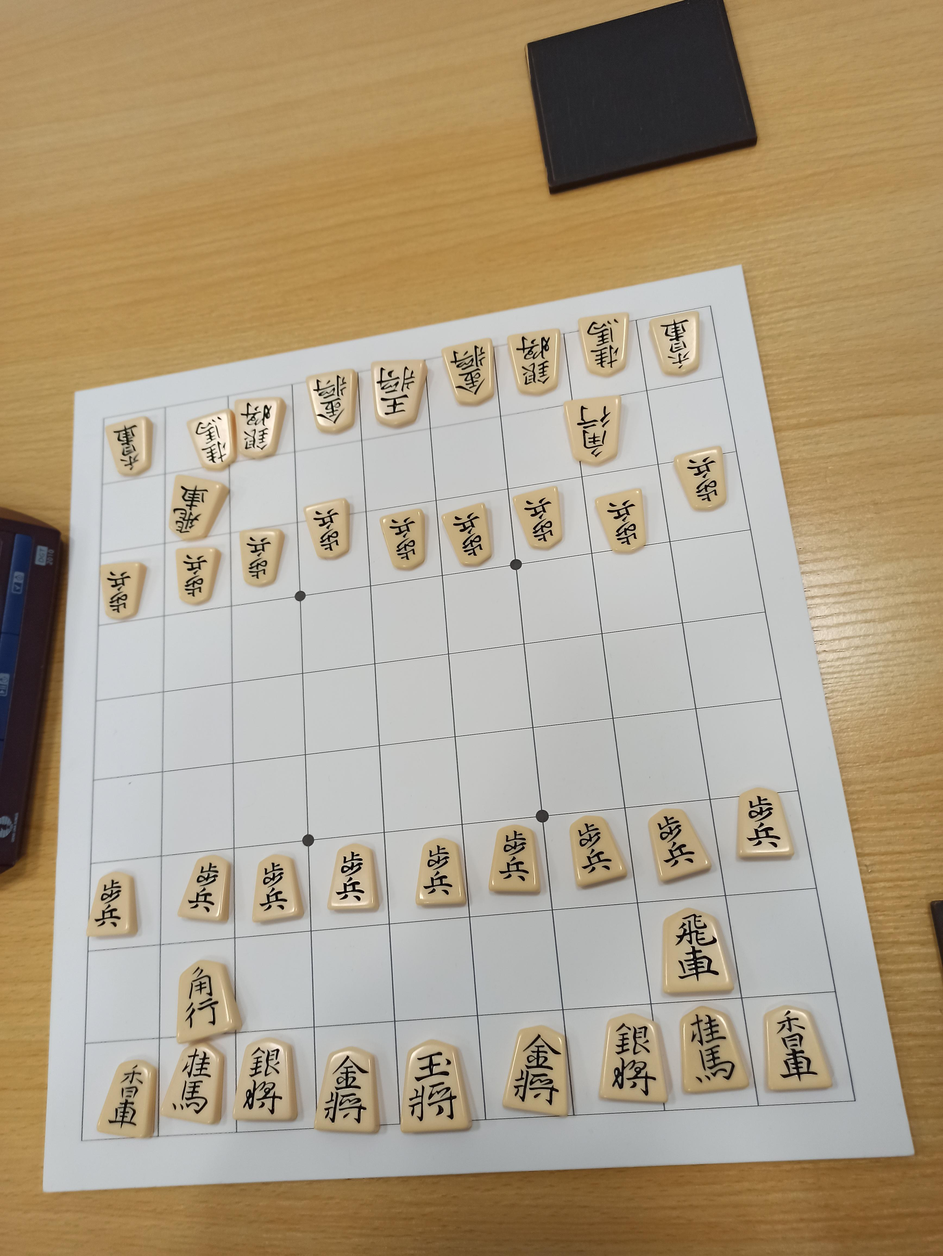board: (82, 306, 855, 1141)
